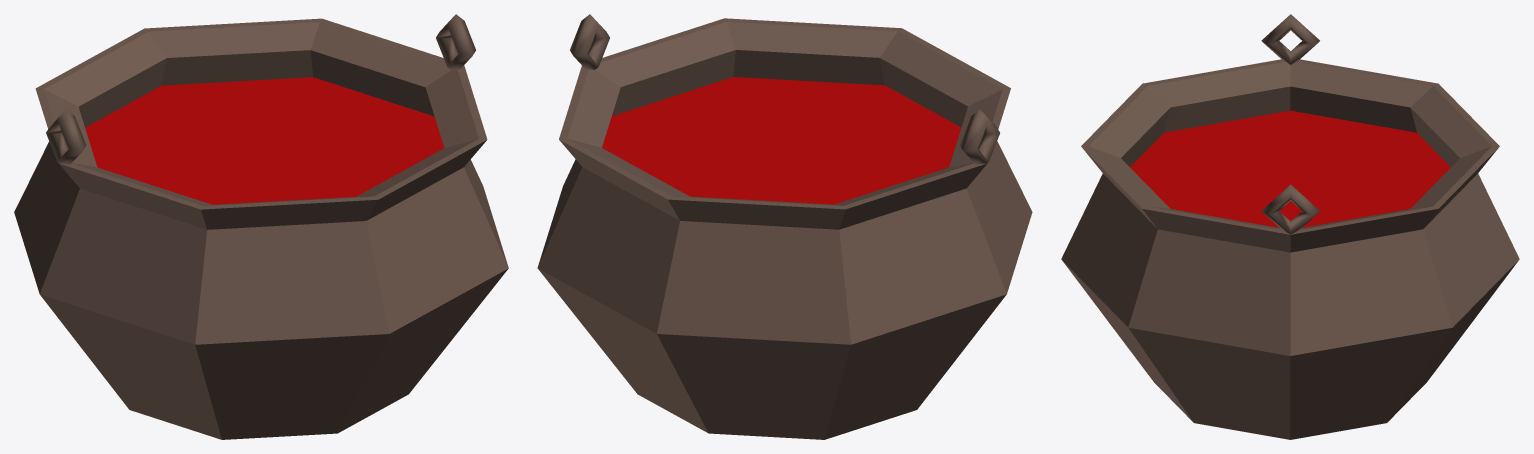
File: Calderone 3.fbx
3 renders of one model, left to right at view 1: azimuth 30°, elevation 25°; view 2: azimuth 150°, elevation 25°; view 3: azimuth 270°, elevation 25°, orthographic. The views are drawn at different scales.
Visible parts, largest first — view 1: Cylinder007; view 2: Cylinder007; view 3: Cylinder007.
Boxes of the visible parts, <box> form: Cylinder007: <box>14,14,508,439</box>; Cylinder007: <box>537,14,1032,439</box>; Cylinder007: <box>1061,14,1519,439</box>.
Size of the model in its own units: 108 by 73.75 by 108.
